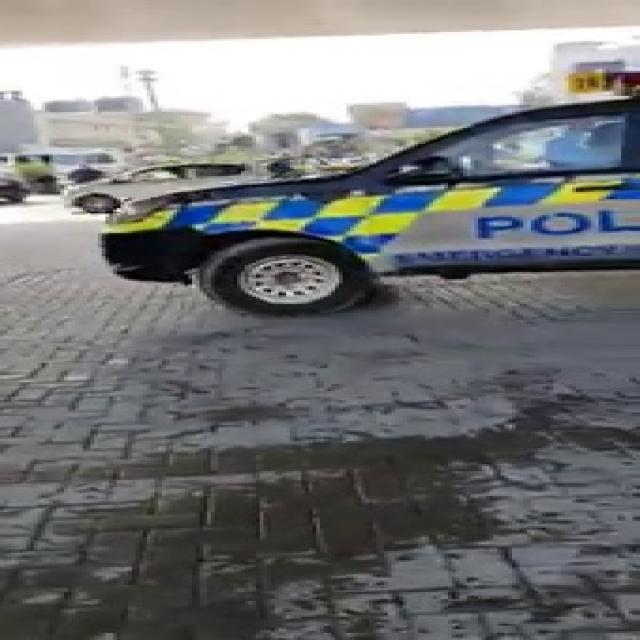police: (26, 77, 640, 311)
